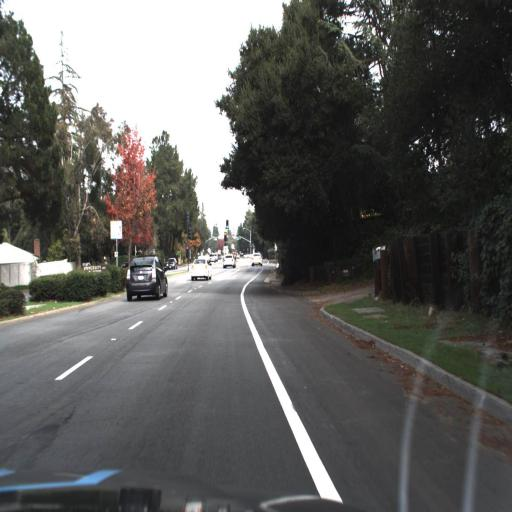car: (121, 252, 172, 304), (188, 254, 211, 284), (245, 247, 265, 274), (221, 249, 237, 275)
trafficLight-Green: (225, 217, 233, 234)
